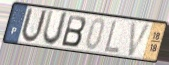0: (84, 17, 107, 52)
B: (60, 14, 88, 49)
L: (103, 19, 121, 55)
U: (19, 6, 49, 45), (41, 9, 70, 48)
V: (126, 21, 153, 58)
